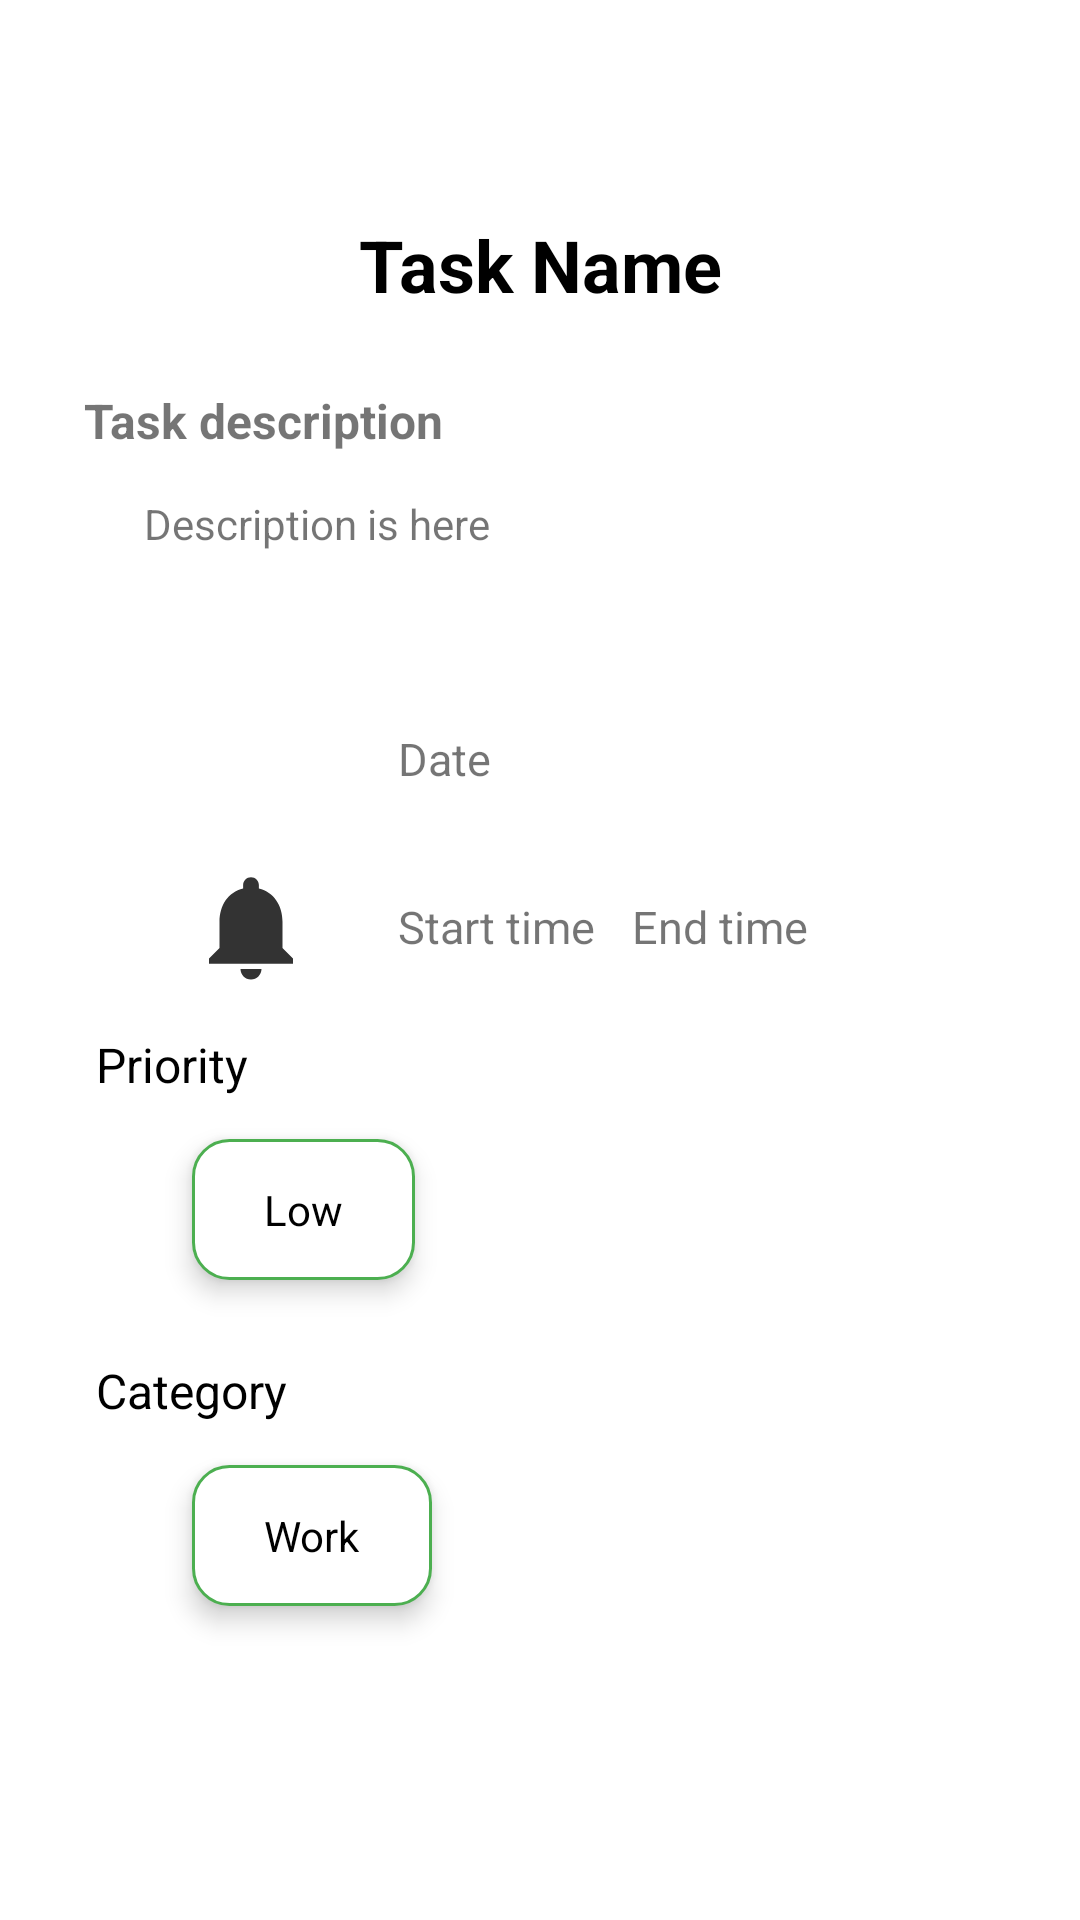

Icon click points for this 1080 x 1920 phone screenshot, format point (x, y):
notifications: point (251, 928)
